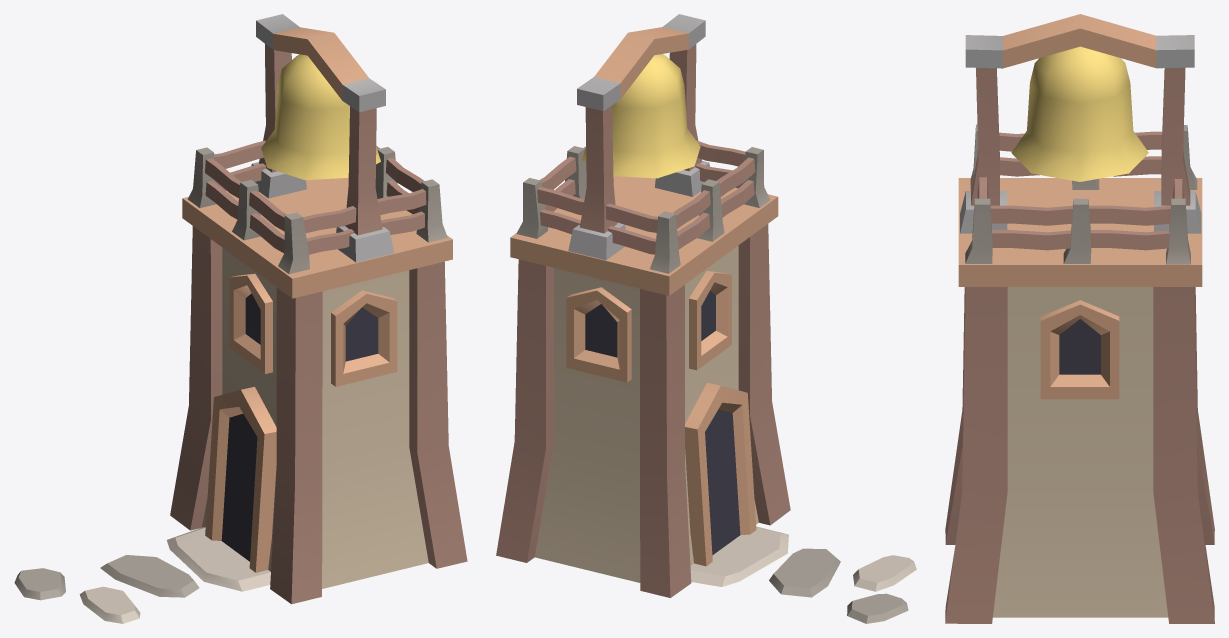
Rendered from SM_ME_BellTower.fbx.
3 views of the same model, side by side, from view 1: azimuth 30°, elevation 25°; view 2: azimuth 150°, elevation 25°; view 3: azimuth 270°, elevation 25° (orthographic). The views are drawn at different scales.
Parts seen in each view (by area): view 1: Bell_tower; view 2: Bell_tower; view 3: Bell_tower.
Boxes of the visible parts, x1,y1,x2,y2 form: Bell_tower: [14, 14, 467, 623]; Bell_tower: [496, 14, 916, 623]; Bell_tower: [945, 14, 1214, 623].
Bounding box in the file's own units: 0.7051 × 0.9155 × 0.402.
